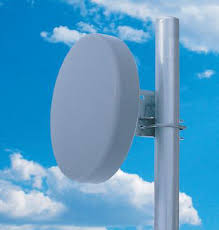ba: (45, 23, 146, 198)
